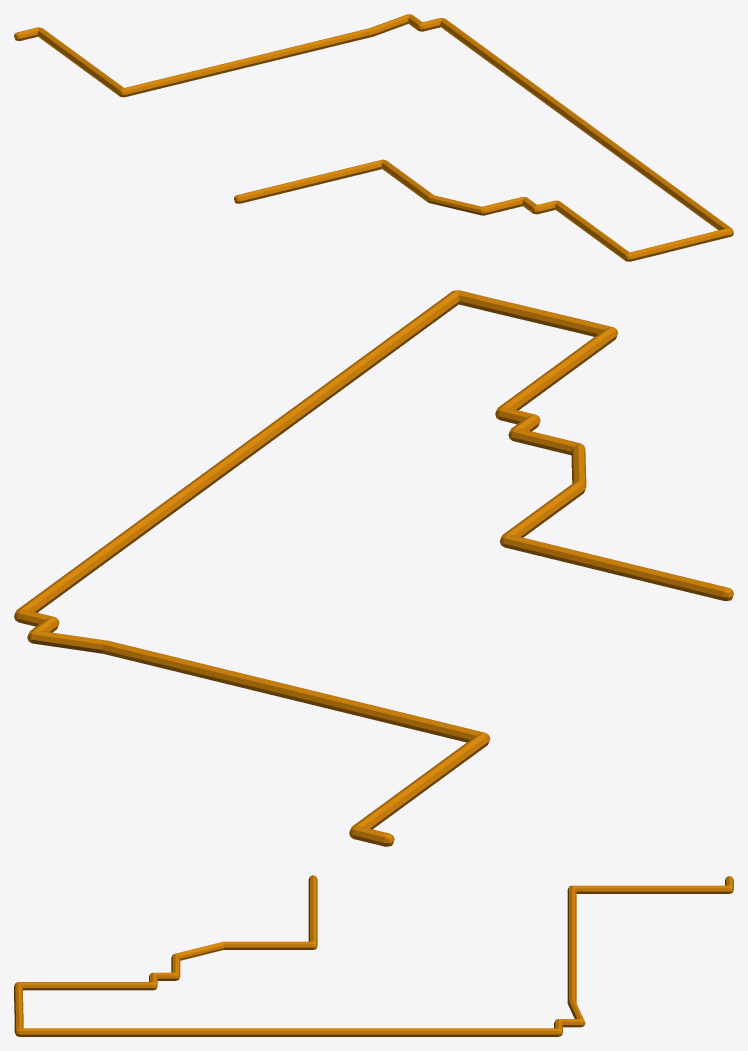
3 views of the same model, one above another, from view 1: azimuth 30°, elevation 25°; view 2: azimuth 150°, elevation 25°; view 3: azimuth 270°, elevation 25° (orthographic). The views are drawn at different scales.
Bounding box in the file's own units: 827 × 20 × 1602.
